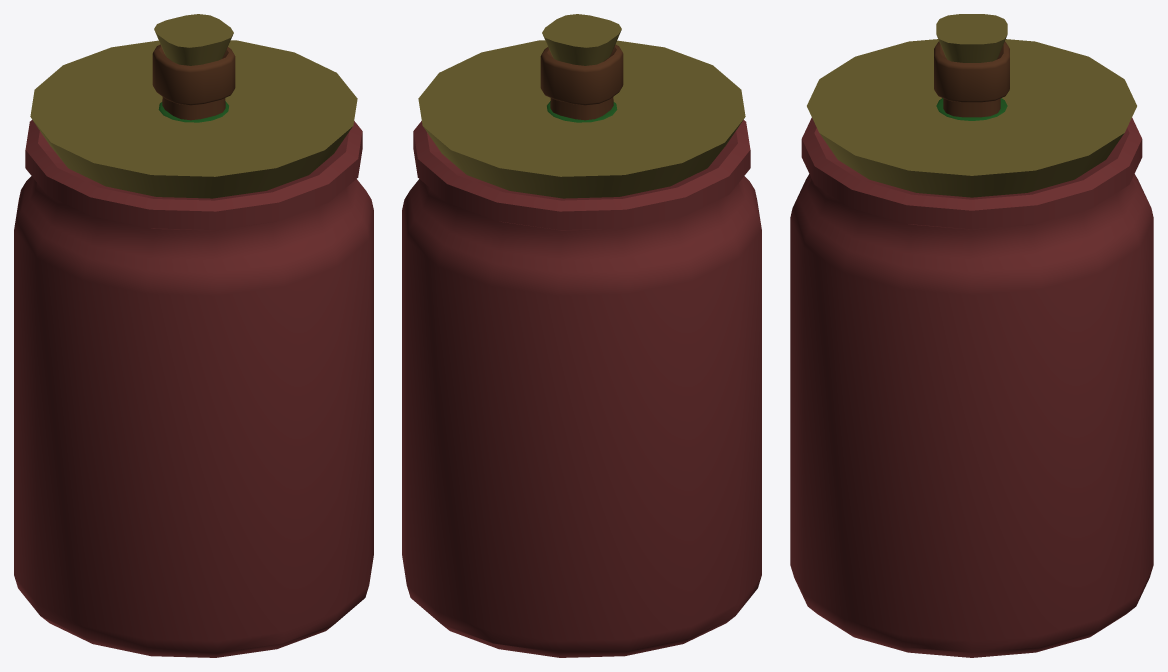
Rendered from Containers.fbx.
The picture shows the model from 3 angles, left to right: view 1: azimuth 30°, elevation 25°; view 2: azimuth 150°, elevation 25°; view 3: azimuth 270°, elevation 25°; orthographic projection.
Parts seen in each view (by area): view 1: Jar01A, Whiskey01A; view 2: Jar01A, Whiskey01A; view 3: Jar01A, Whiskey01A.
Part boxes in pixels (x1,y1,x2,y2): Jar01A: [14, 40, 373, 657]; Whiskey01A: [152, 14, 235, 120]; Jar01A: [402, 40, 761, 657]; Whiskey01A: [540, 14, 623, 120]; Jar01A: [790, 39, 1153, 657]; Whiskey01A: [934, 14, 1009, 117].
Size of the model in its own units: 0.2068 by 0.3527 by 0.2068.
